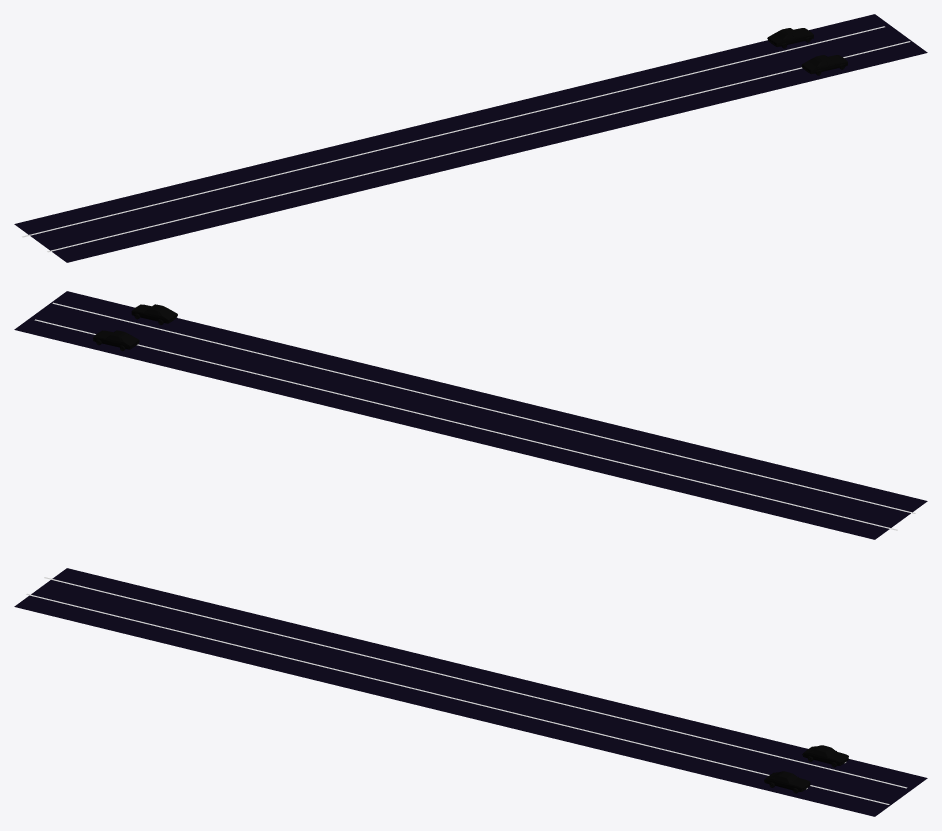
The model's file is street-with-car.glb.
3 views of the same model, one above another, from view 1: azimuth 30°, elevation 25°; view 2: azimuth 150°, elevation 25°; view 3: azimuth 330°, elevation 25° (orthographic).
Parts seen in each view (by area): view 1: Plane, lineRoad.001, Car, Car.001; view 2: Plane, lineRoad.001, Car.001, Car; view 3: Plane, lineRoad.001, Car.001, Car.
Boxes of the visible parts, x1=… form: Plane: x1=14, y1=14, x2=927, y2=262; lineRoad.001: x1=22, y1=26, x2=910, y2=252; Car: x1=767, y1=28, x2=813, y2=48; Car.001: x1=801, y1=55, x2=847, y2=75; Plane: x1=14, y1=291, x2=927, y2=539; lineRoad.001: x1=34, y1=302, x2=915, y2=530; Car.001: x1=131, y1=304, x2=177, y2=324; Car: x1=93, y1=330, x2=139, y2=351; Plane: x1=14, y1=568, x2=927, y2=816; lineRoad.001: x1=26, y1=577, x2=907, y2=804; Car.001: x1=764, y1=771, x2=810, y2=793; Car: x1=802, y1=745, x2=848, y2=767.
Size of the model in its own units: 59.21 by 0.8431 by 6.26.
